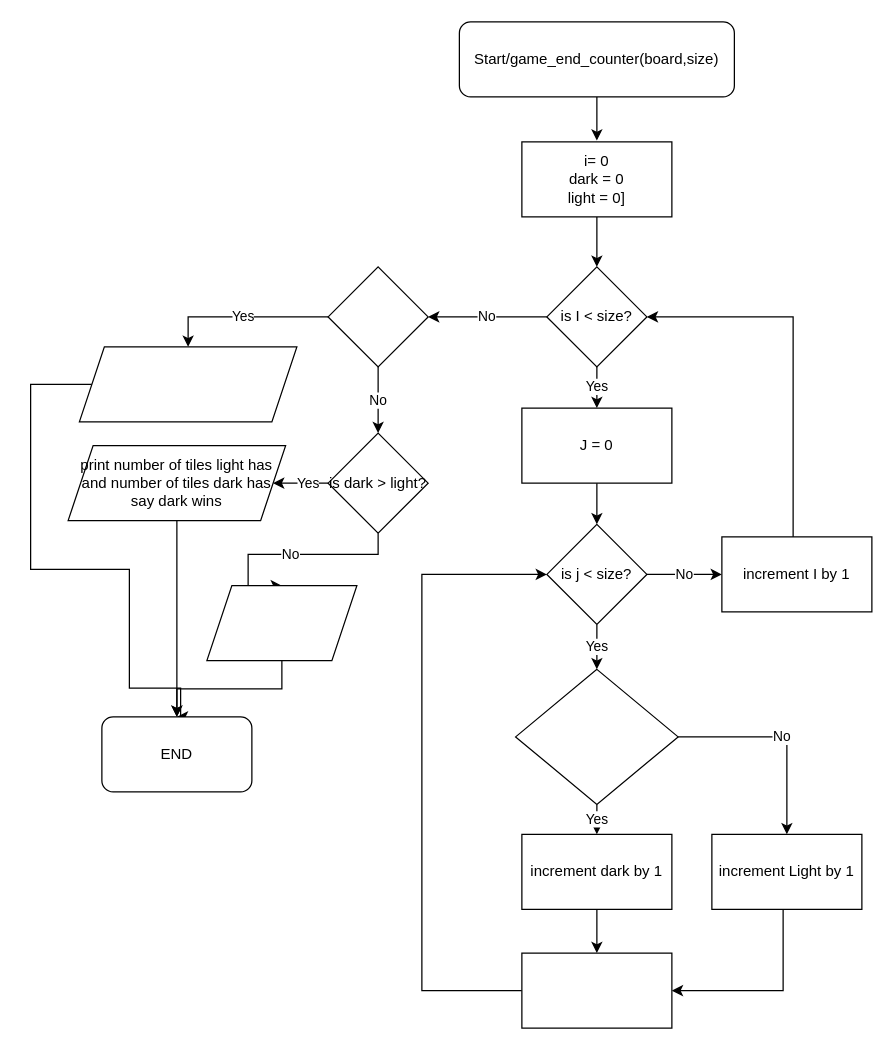
Image size: 894x1050. Some labels were removed from this diagram. Here are the shapes that lost their labels. From the top down, the centre of each, then its label:
At point (377, 316): "is light > dark?".
At point (187, 384): "print number of tiles light has and number of tiles dark has say light wins".
At point (281, 622): "Print that the game is a draw".
At point (596, 736): "is the tile at I,j dark?".
At point (596, 990): "increment j by 1".
